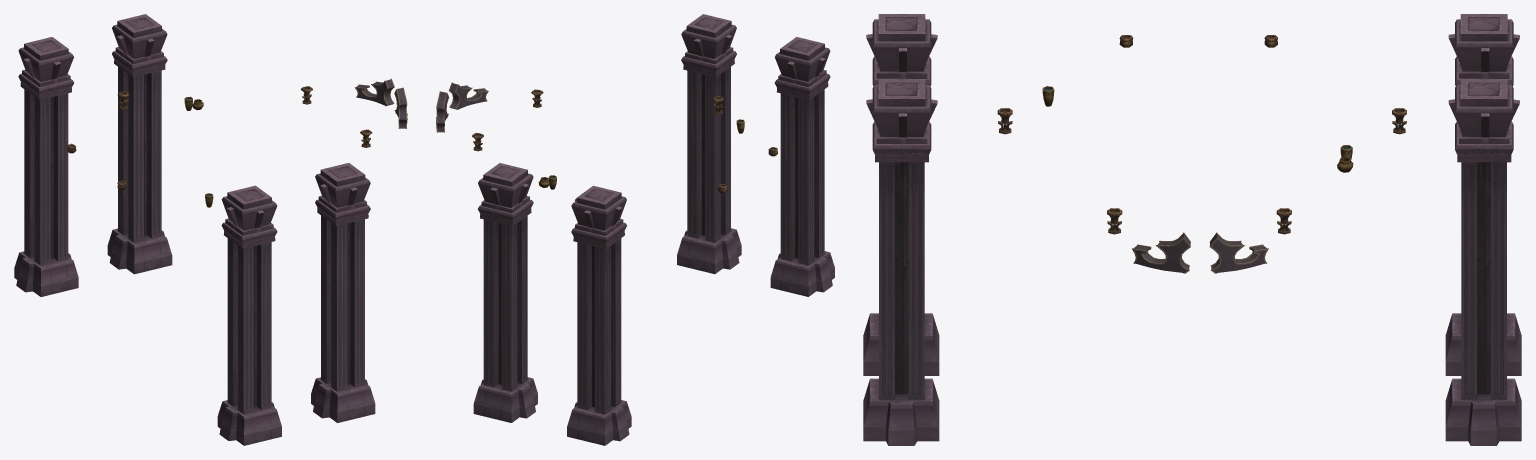
Rendered from SD_xs_qiang07.FBX.
3 views of the same model, side by side, from view 1: azimuth 30°, elevation 25°; view 2: azimuth 150°, elevation 25°; view 3: azimuth 270°, elevation 25° (orthographic). The views are drawn at different scales.
Visible parts, largest first — view 1: SD_xs_qiang07; view 2: SD_xs_qiang07; view 3: SD_xs_qiang07.
Part boxes in pixels (x1=…): SD_xs_qiang07: x1=14, y1=14, x2=407, y2=445; SD_xs_qiang07: x1=436, y1=14, x2=834, y2=445; SD_xs_qiang07: x1=863, y1=14, x2=1521, y2=445.
Size of the model in its own units: 1089 by 805 by 1417.
Materials: 1 (1 with a texture image).
